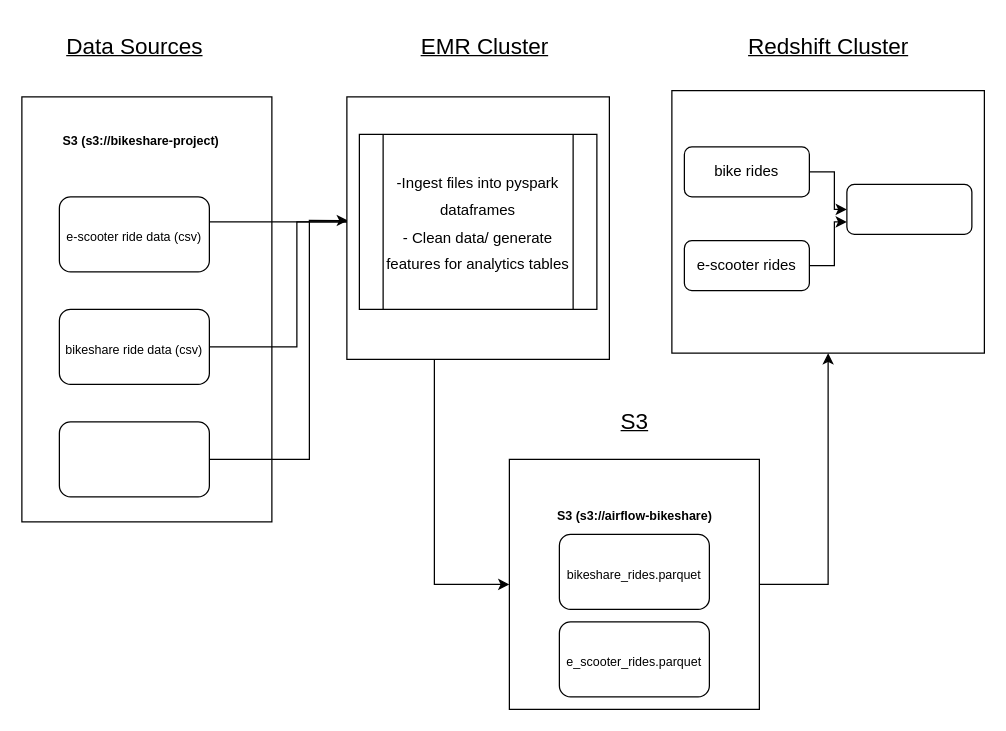
Image size: 1006x731. Some labels were removed from this diagram. The shapes that lost their labels are listed below. From the top down, each one's box as (x1, y1, x2, y2) in pixels, then its label:
(846, 183, 972, 234): neighborhood metrics
(58, 421, 209, 497): chicago neighborhood data (csv)
